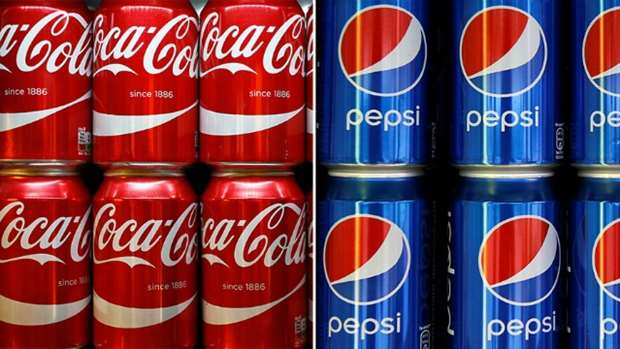pepsi: (456, 2, 548, 96), (456, 3, 548, 96), (321, 211, 411, 305), (337, 2, 425, 96), (321, 216, 411, 305), (337, 6, 425, 96), (476, 213, 561, 306), (321, 216, 404, 305), (580, 6, 619, 98), (591, 216, 619, 300)
